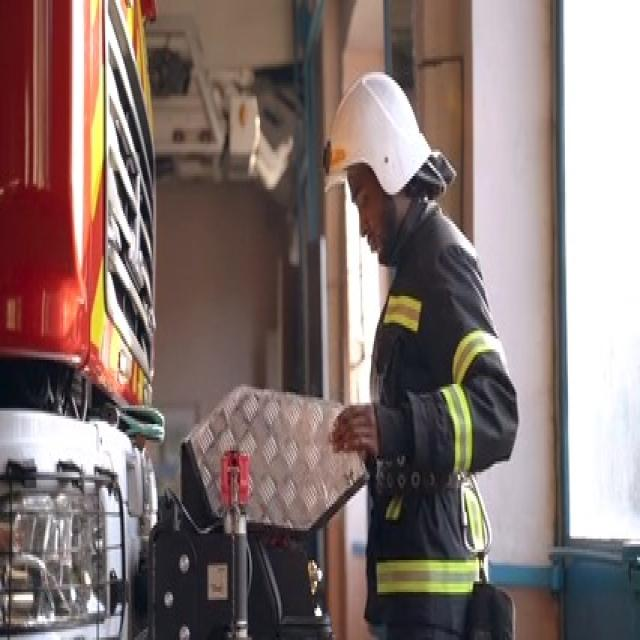Helmet_Wearer: (322, 71, 449, 227)
Jacket_Wearer: (362, 216, 516, 593)
Person: (320, 68, 514, 640)
